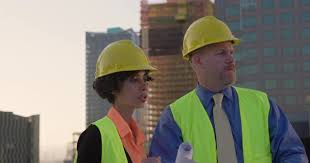Person_wearing_helmet: (88, 38, 156, 91), (177, 11, 239, 63)
